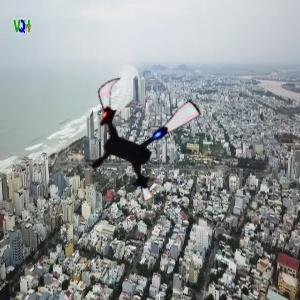drone: (75, 70, 210, 205)
